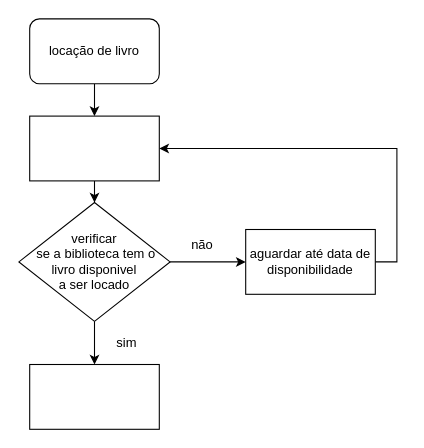
Image size: 424x448. Some labels were removed from this diagram. Each missing label, with the centre of its shape:
locar o livro: point (94, 396)
se dirigir ao local de locação: point (94, 148)
